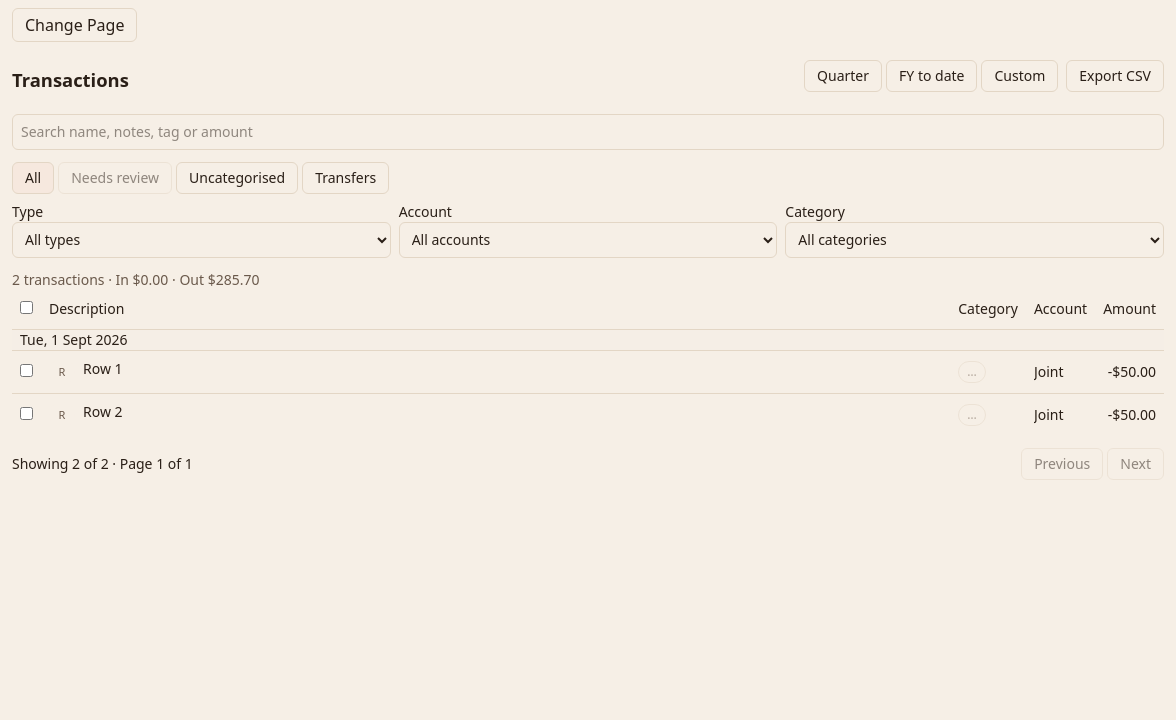
TransactionList bulk selection & actions › bulk tags selected rows and allows undo
Check: the button "Row 1" is shown, box [83,359,123,379]
What coordinates should you click on to do the following:
click the checkbox named "Select all transactions on this page"
I would click on:
 (26, 308)
Its box is [20,301,33,314].
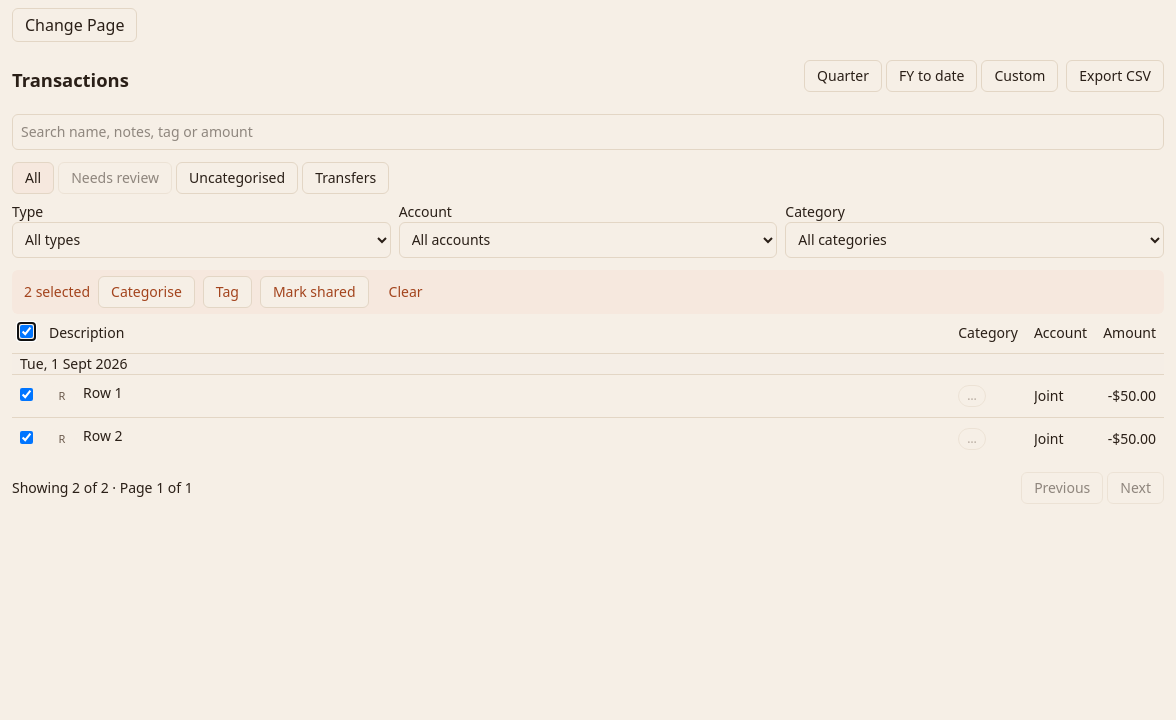
What coordinates should you click on to do the following:
click the button "Tag"
I would click on:
 (227, 292)
Its box is [203,276,252,308].
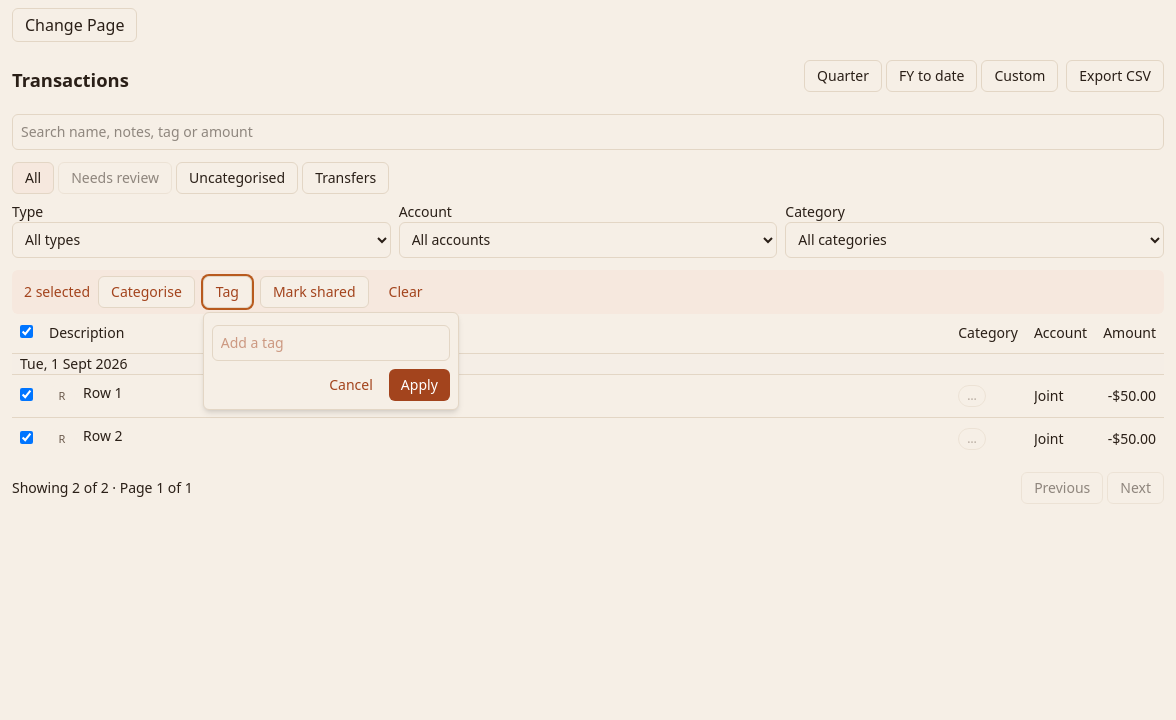
What coordinates should you click on to do the following:
click the dropdown labelled "Add a tag"
I would click on:
 (331, 343)
Its box is [212,325,450,361].
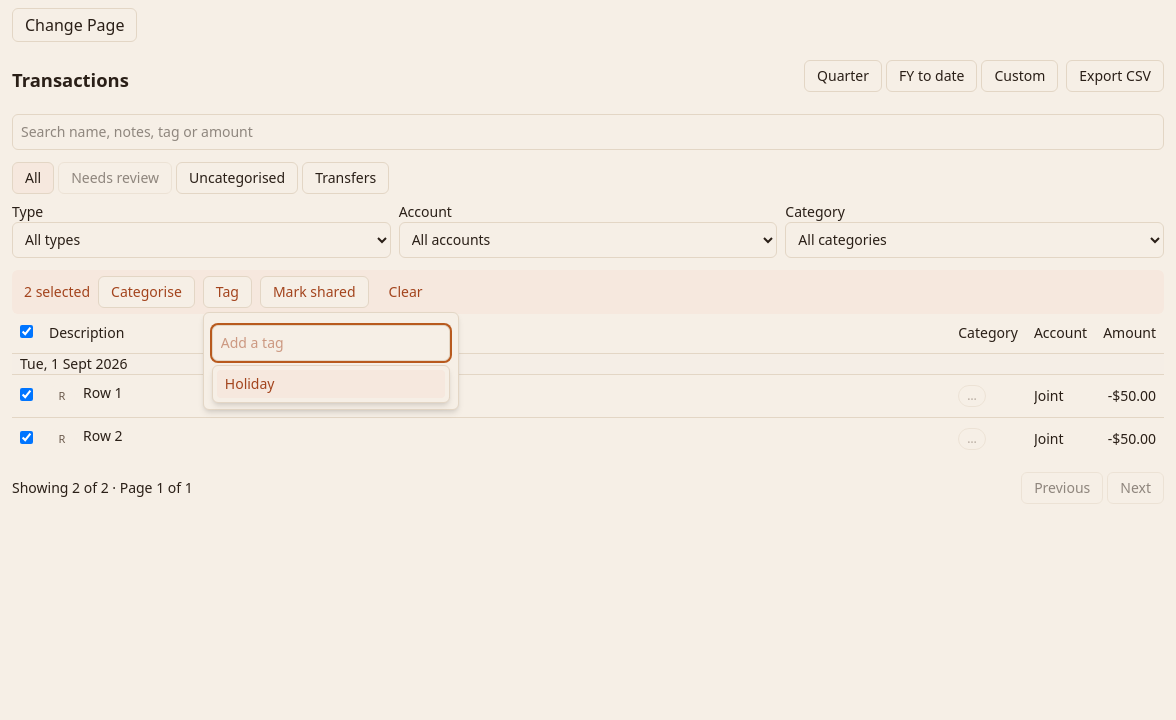
What coordinates should you click on to do the following:
click the option "Holiday"
I would click on:
 (331, 384)
Its box is [217,370,445,398].
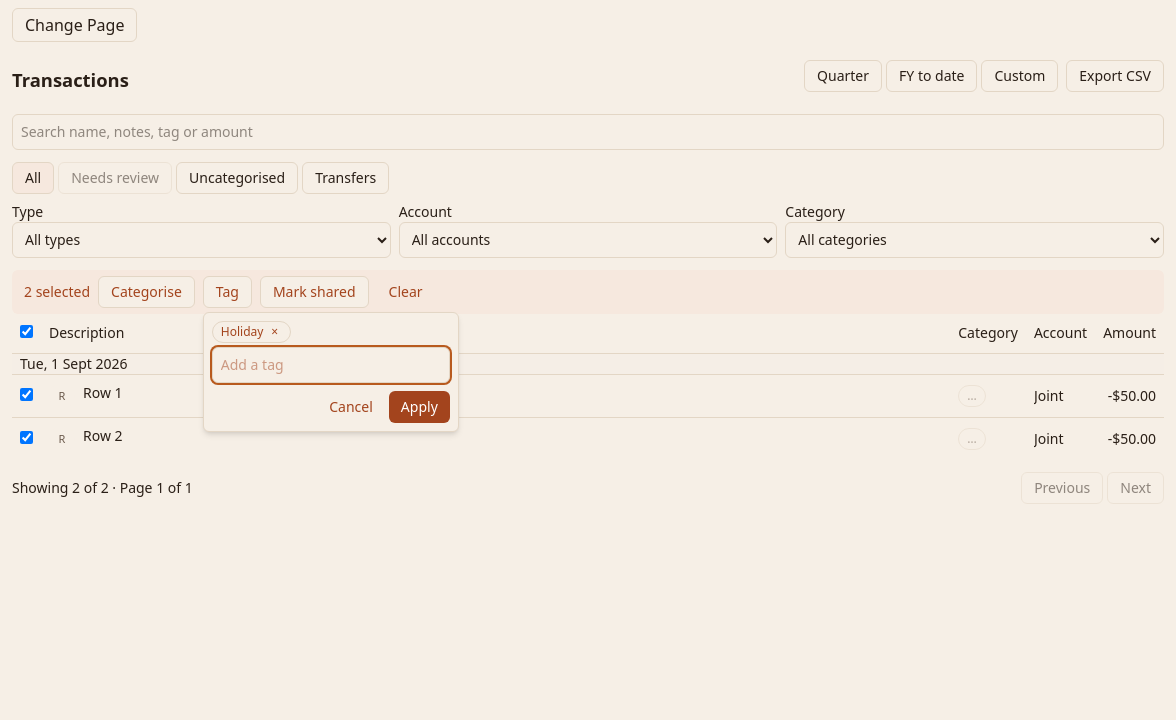
What coordinates should you click on to do the following:
click the button "Apply"
I would click on:
 (419, 407)
Its box is [389,391,450,423].
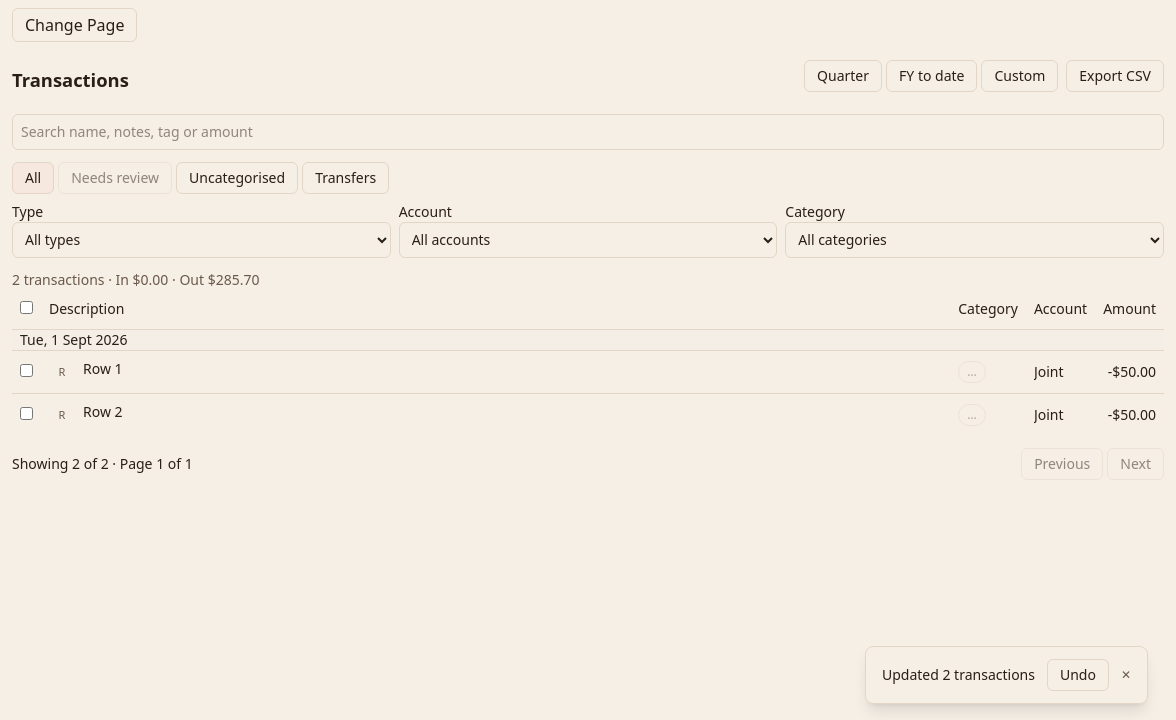
Check: the text "Updated 2 transactions" is shown, box [882,665,1035,685]
What coordinates should you click on to do the following:
click the button "Undo"
I would click on:
 (1078, 675)
Its box is [1047,659,1109,691].
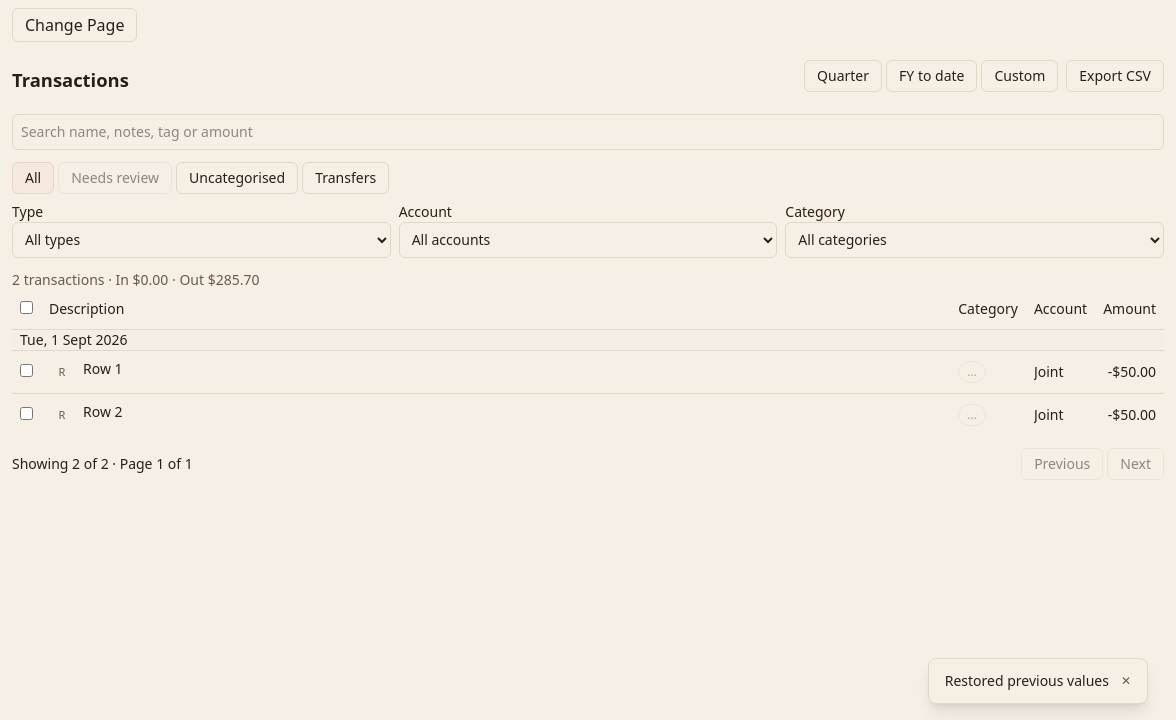
Check: the text "Restored previous values" is shown, box [945,671,1109,691]
